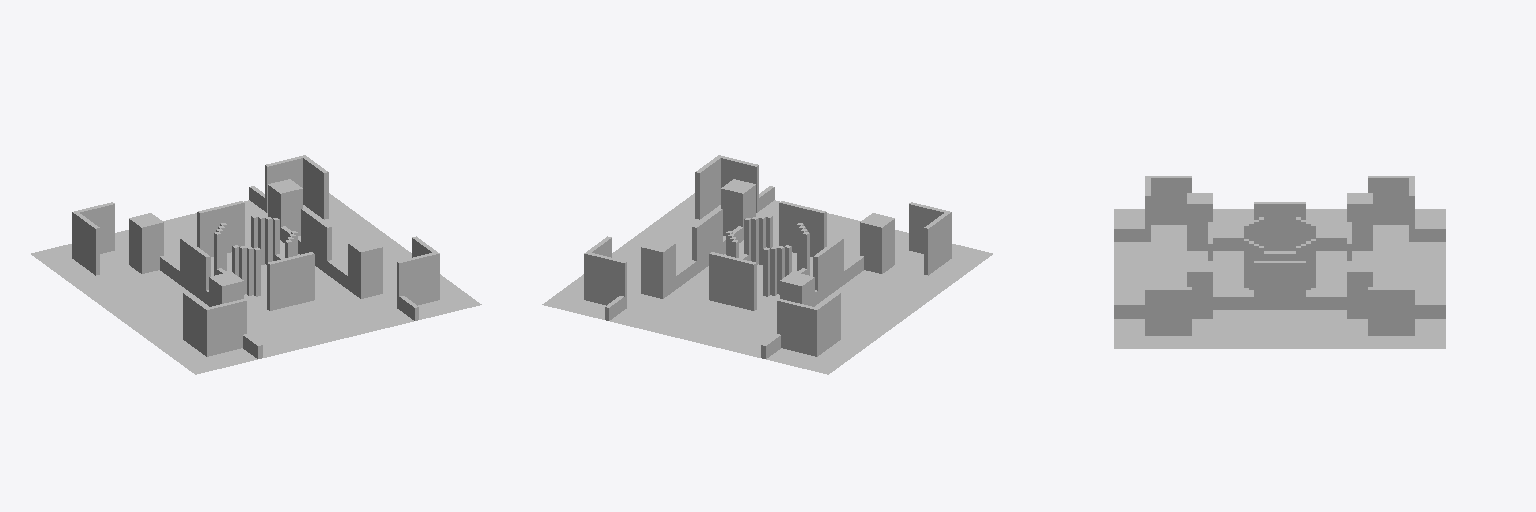
File: bigArenaBlue.obj
3 renders of one model, left to right at view 1: azimuth 30°, elevation 25°; view 2: azimuth 150°, elevation 25°; view 3: azimuth 270°, elevation 25°, orthographic.
Parts seen in each view (by area): view 1: Plane.002; view 2: Plane.002; view 3: Plane.002.
Part boxes in pixels (x1,y1,x2,y2): Plane.002: (31,155,481,374); Plane.002: (542,155,992,374); Plane.002: (1114,176,1445,348).
Bounding box in the file's own units: 1234 × 192 × 1234.